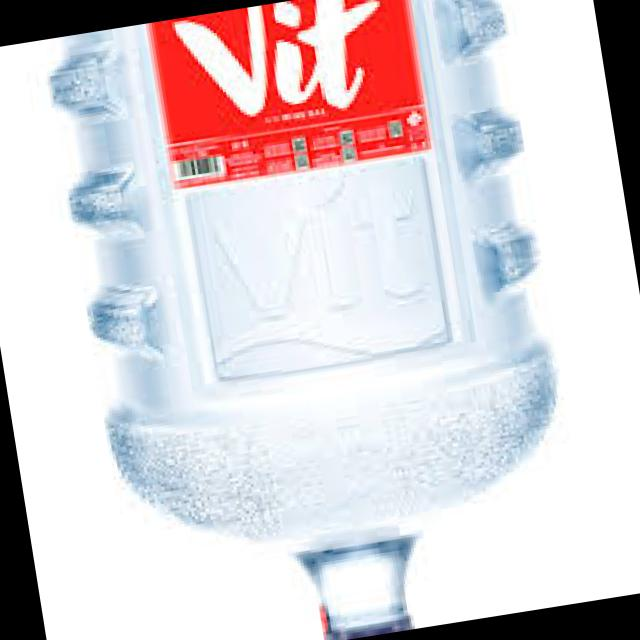Galon: (36, 0, 601, 640)
